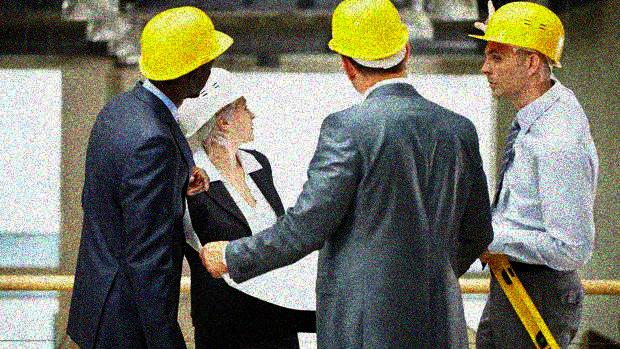helmet: (468, 1, 568, 98), (138, 5, 234, 98), (326, 1, 413, 92), (177, 65, 260, 144)
